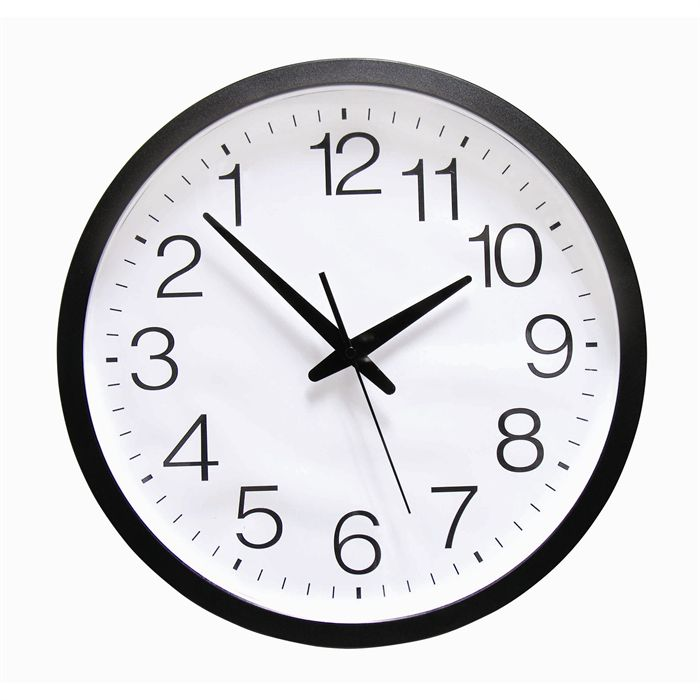clock: (83, 84, 622, 628)
